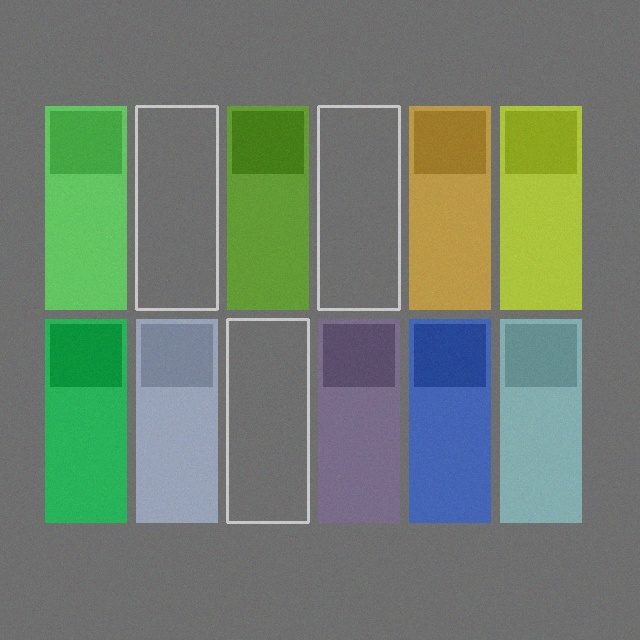space-empty: (136, 106, 217, 309), (318, 106, 399, 309), (227, 319, 308, 522)
space-occupied: (45, 106, 126, 309), (227, 106, 308, 309), (409, 106, 490, 309), (500, 106, 581, 309), (45, 319, 126, 522), (136, 319, 217, 522), (318, 319, 399, 522), (409, 319, 490, 522), (500, 319, 581, 522)
